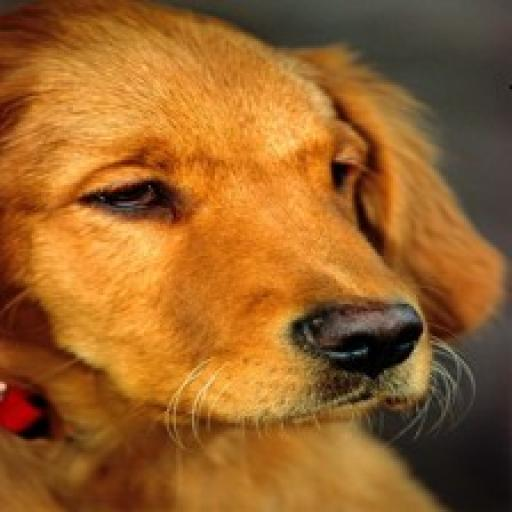dog: (1, 3, 511, 512)
